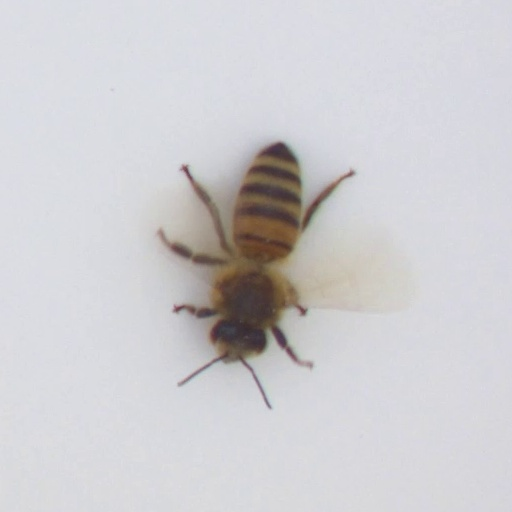Bee: (207, 157, 298, 356)
Thorax: (214, 264, 287, 318)
